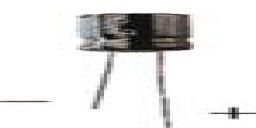Electrolytic-capacitor: (74, 8, 198, 126)
